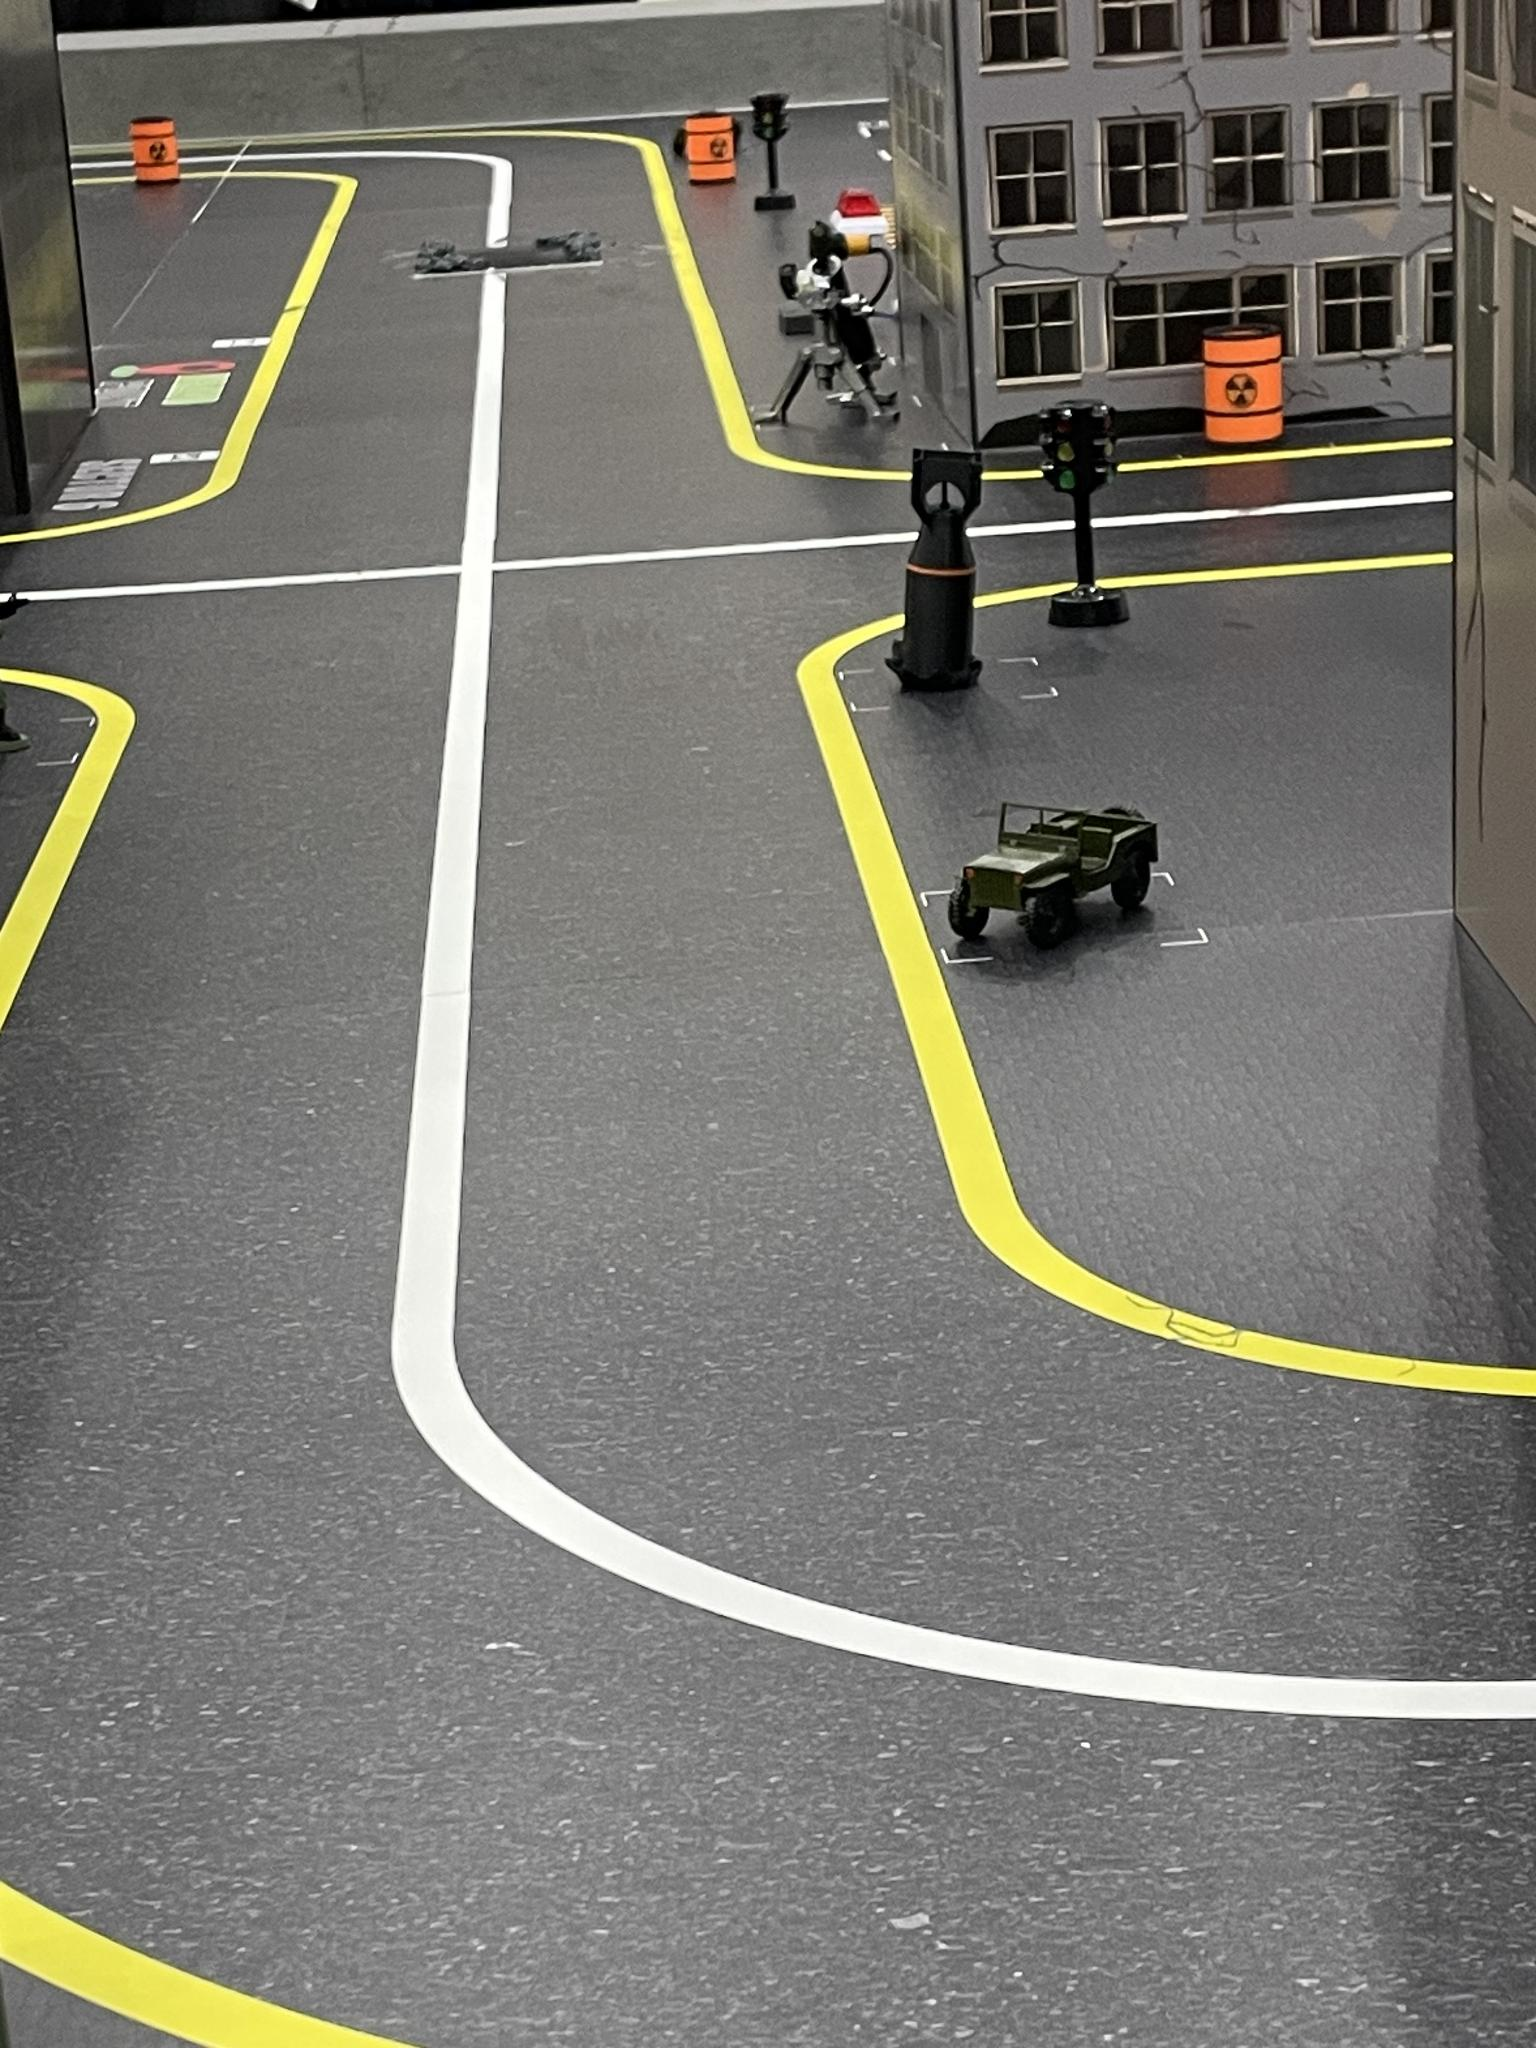Car: (960, 795, 1163, 955)
Hazmat: (1202, 326, 1297, 452), (682, 110, 739, 185), (129, 111, 181, 190)
Missile: (891, 447, 983, 690)
Mortar: (755, 229, 904, 437)
